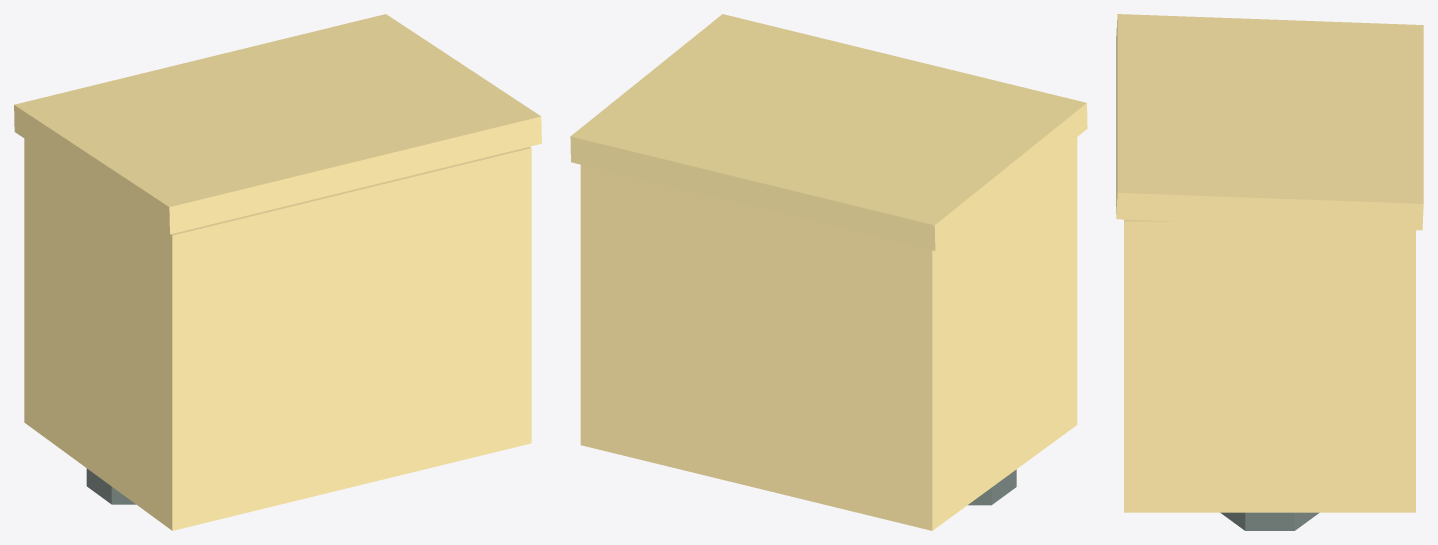
Rendered from SM_Contenedor_v2_Reciclaje_LOD1.fbx.
The picture shows the model from 3 angles, left to right: view 1: azimuth 30°, elevation 25°; view 2: azimuth 150°, elevation 25°; view 3: azimuth 270°, elevation 25°; orthographic projection. The views are drawn at different scales.
Parts seen in each view (by area): view 1: SM_urbano_extra_v2_LOD1; view 2: SM_urbano_extra_v2_LOD1; view 3: SM_urbano_extra_v2_LOD1.
Boxes of the visible parts, x1,y1,x2,y2 form: SM_urbano_extra_v2_LOD1: [14, 14, 541, 530]; SM_urbano_extra_v2_LOD1: [570, 14, 1087, 530]; SM_urbano_extra_v2_LOD1: [1116, 14, 1423, 530].
Size of the model in its own units: 1.45 by 1.29 by 1.05.
